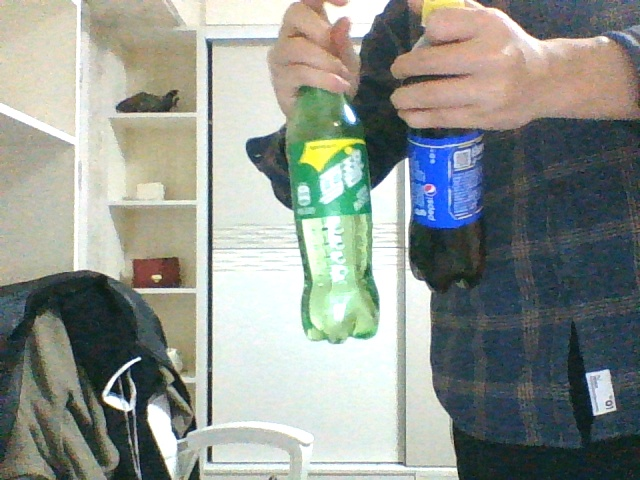Cola: (408, 1, 487, 294)
Sprite: (286, 81, 381, 344)
